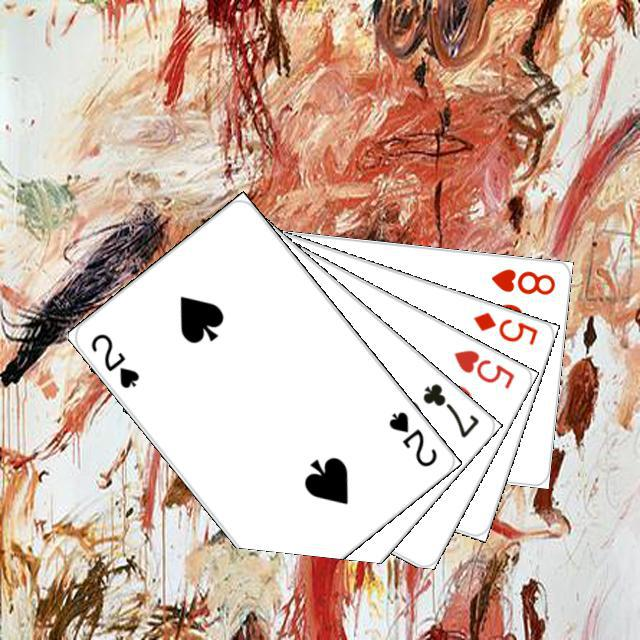2s: (85, 328, 142, 391), (383, 406, 439, 469)
5d: (468, 306, 540, 347)
5h: (448, 344, 516, 391)
7c: (417, 378, 481, 440)
8h: (486, 264, 557, 297)
